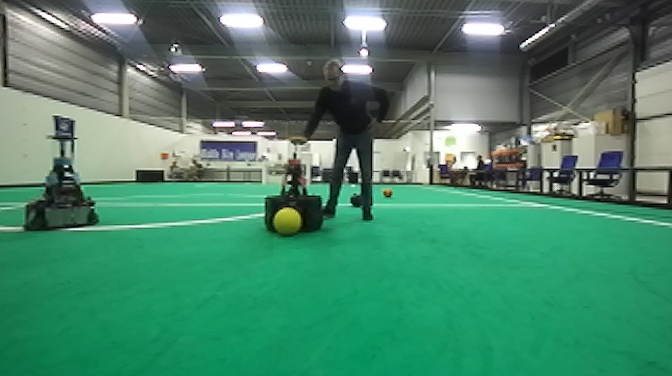ball: (270, 207, 303, 237), (348, 190, 364, 209), (381, 187, 395, 199)
goalpost: (261, 162, 267, 186), (306, 161, 311, 186)
human: (289, 57, 393, 224)
robot: (21, 115, 99, 232), (263, 137, 326, 236)
